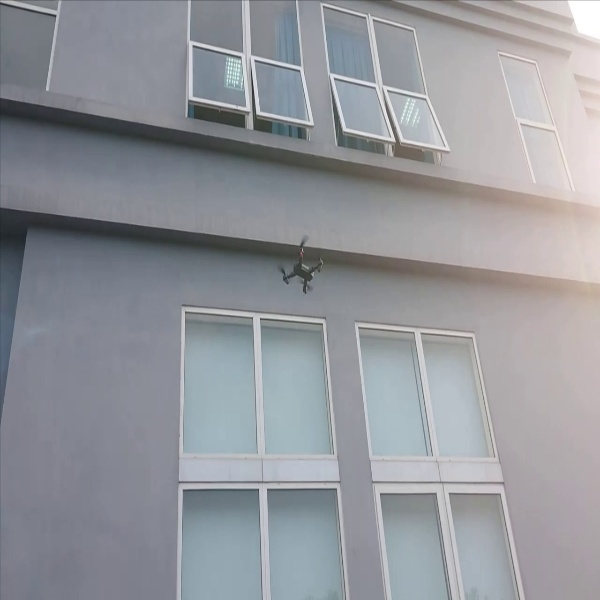drone: (273, 231, 332, 299)
